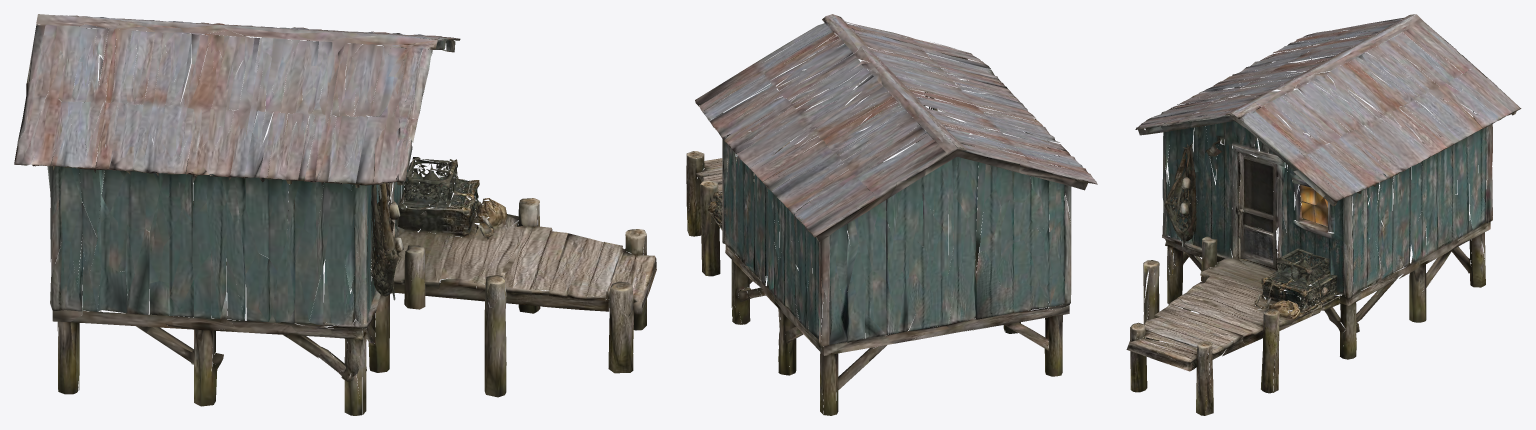
The model's file is shack.glb.
3 views of the same model, side by side, from view 1: azimuth 30°, elevation 25°; view 2: azimuth 150°, elevation 25°; view 3: azimuth 270°, elevation 25° (orthographic). The views are drawn at different scales.
Visible parts, largest first — view 1: tripo_node_3b0f9c9a-ee60-46dd-9d21-56f1ed11b905; view 2: tripo_node_3b0f9c9a-ee60-46dd-9d21-56f1ed11b905; view 3: tripo_node_3b0f9c9a-ee60-46dd-9d21-56f1ed11b905.
Part boxes in pixels (box(x1,y1,x2,y2)): tripo_node_3b0f9c9a-ee60-46dd-9d21-56f1ed11b905: box(14, 14, 656, 415); tripo_node_3b0f9c9a-ee60-46dd-9d21-56f1ed11b905: box(686, 14, 1097, 415); tripo_node_3b0f9c9a-ee60-46dd-9d21-56f1ed11b905: box(1126, 14, 1521, 415).
Size of the model in its own units: 11.09 by 6 by 9.15.
Materials: 1 (1 with a texture image).
